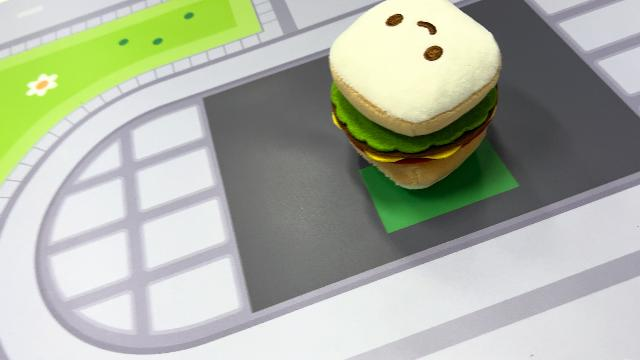sandwich: (326, 1, 504, 191)
